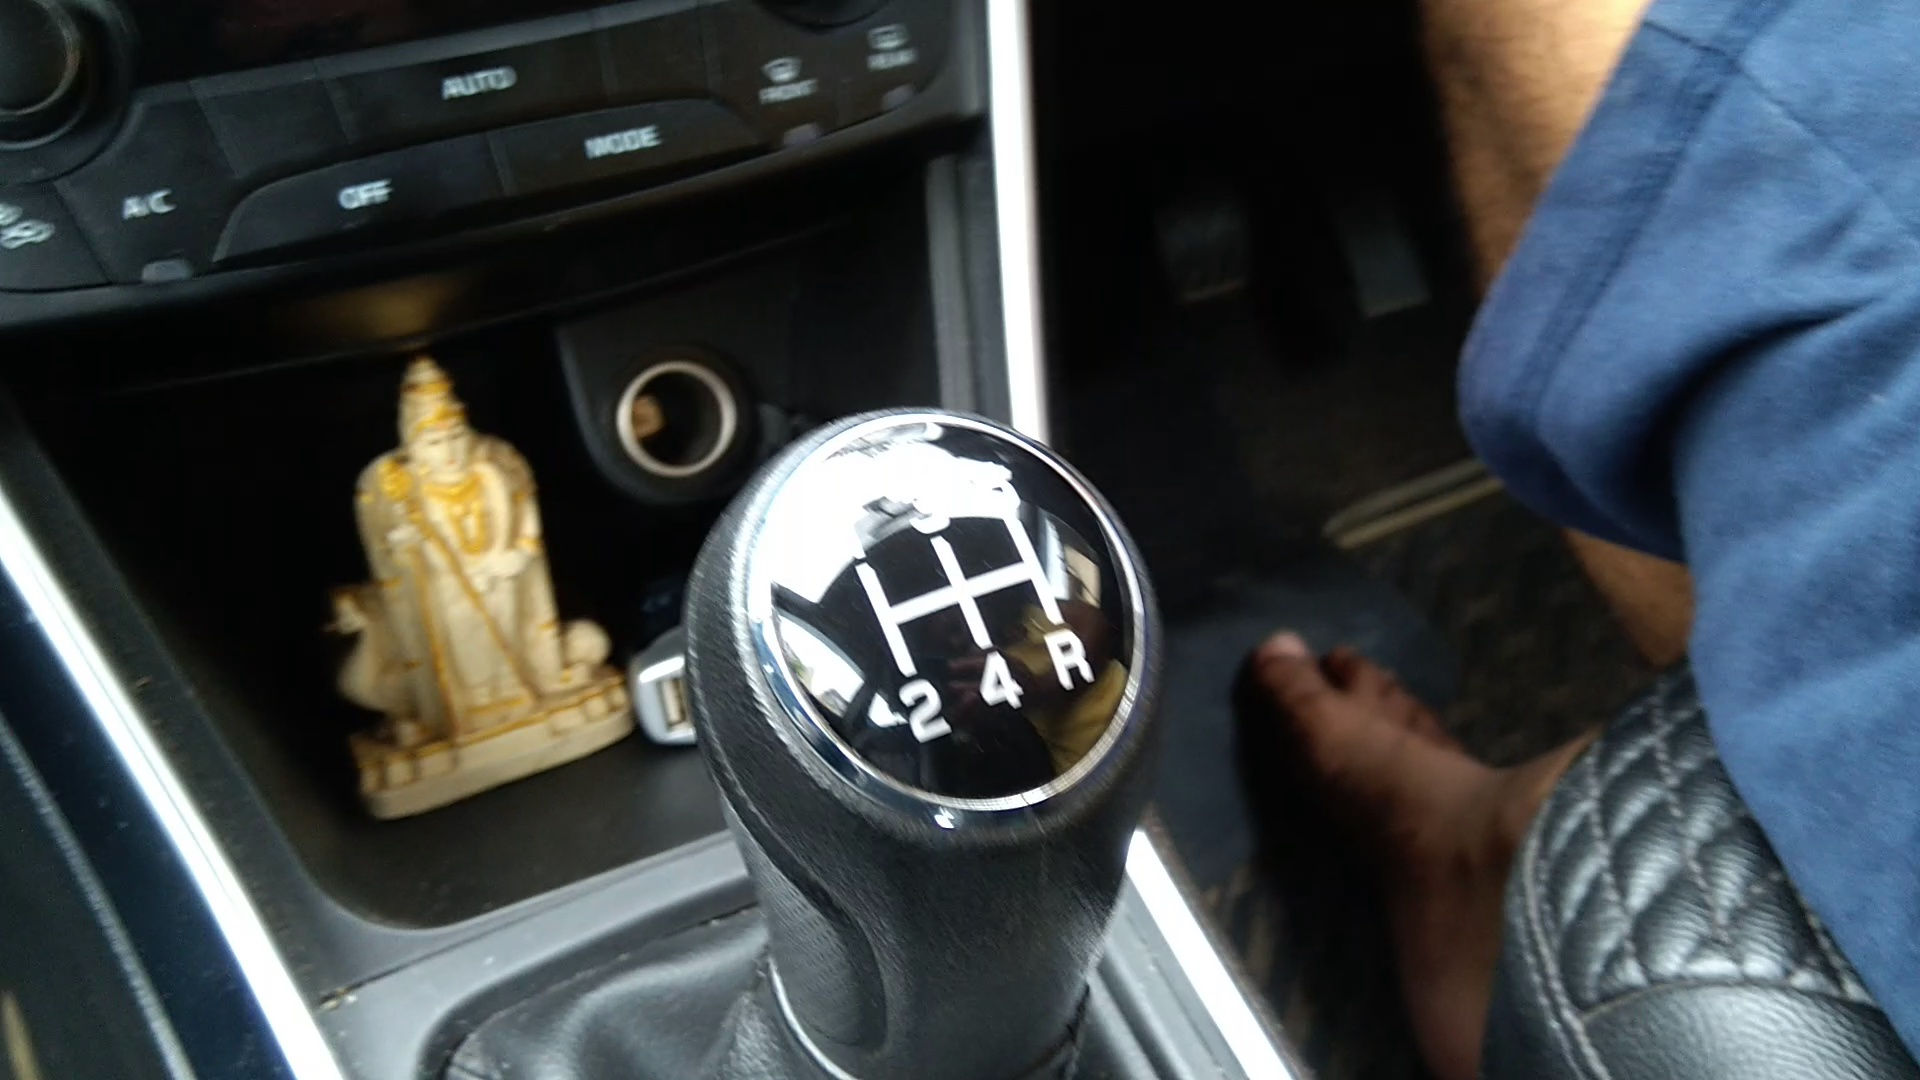manual_gear: (686, 382, 1184, 1080)
